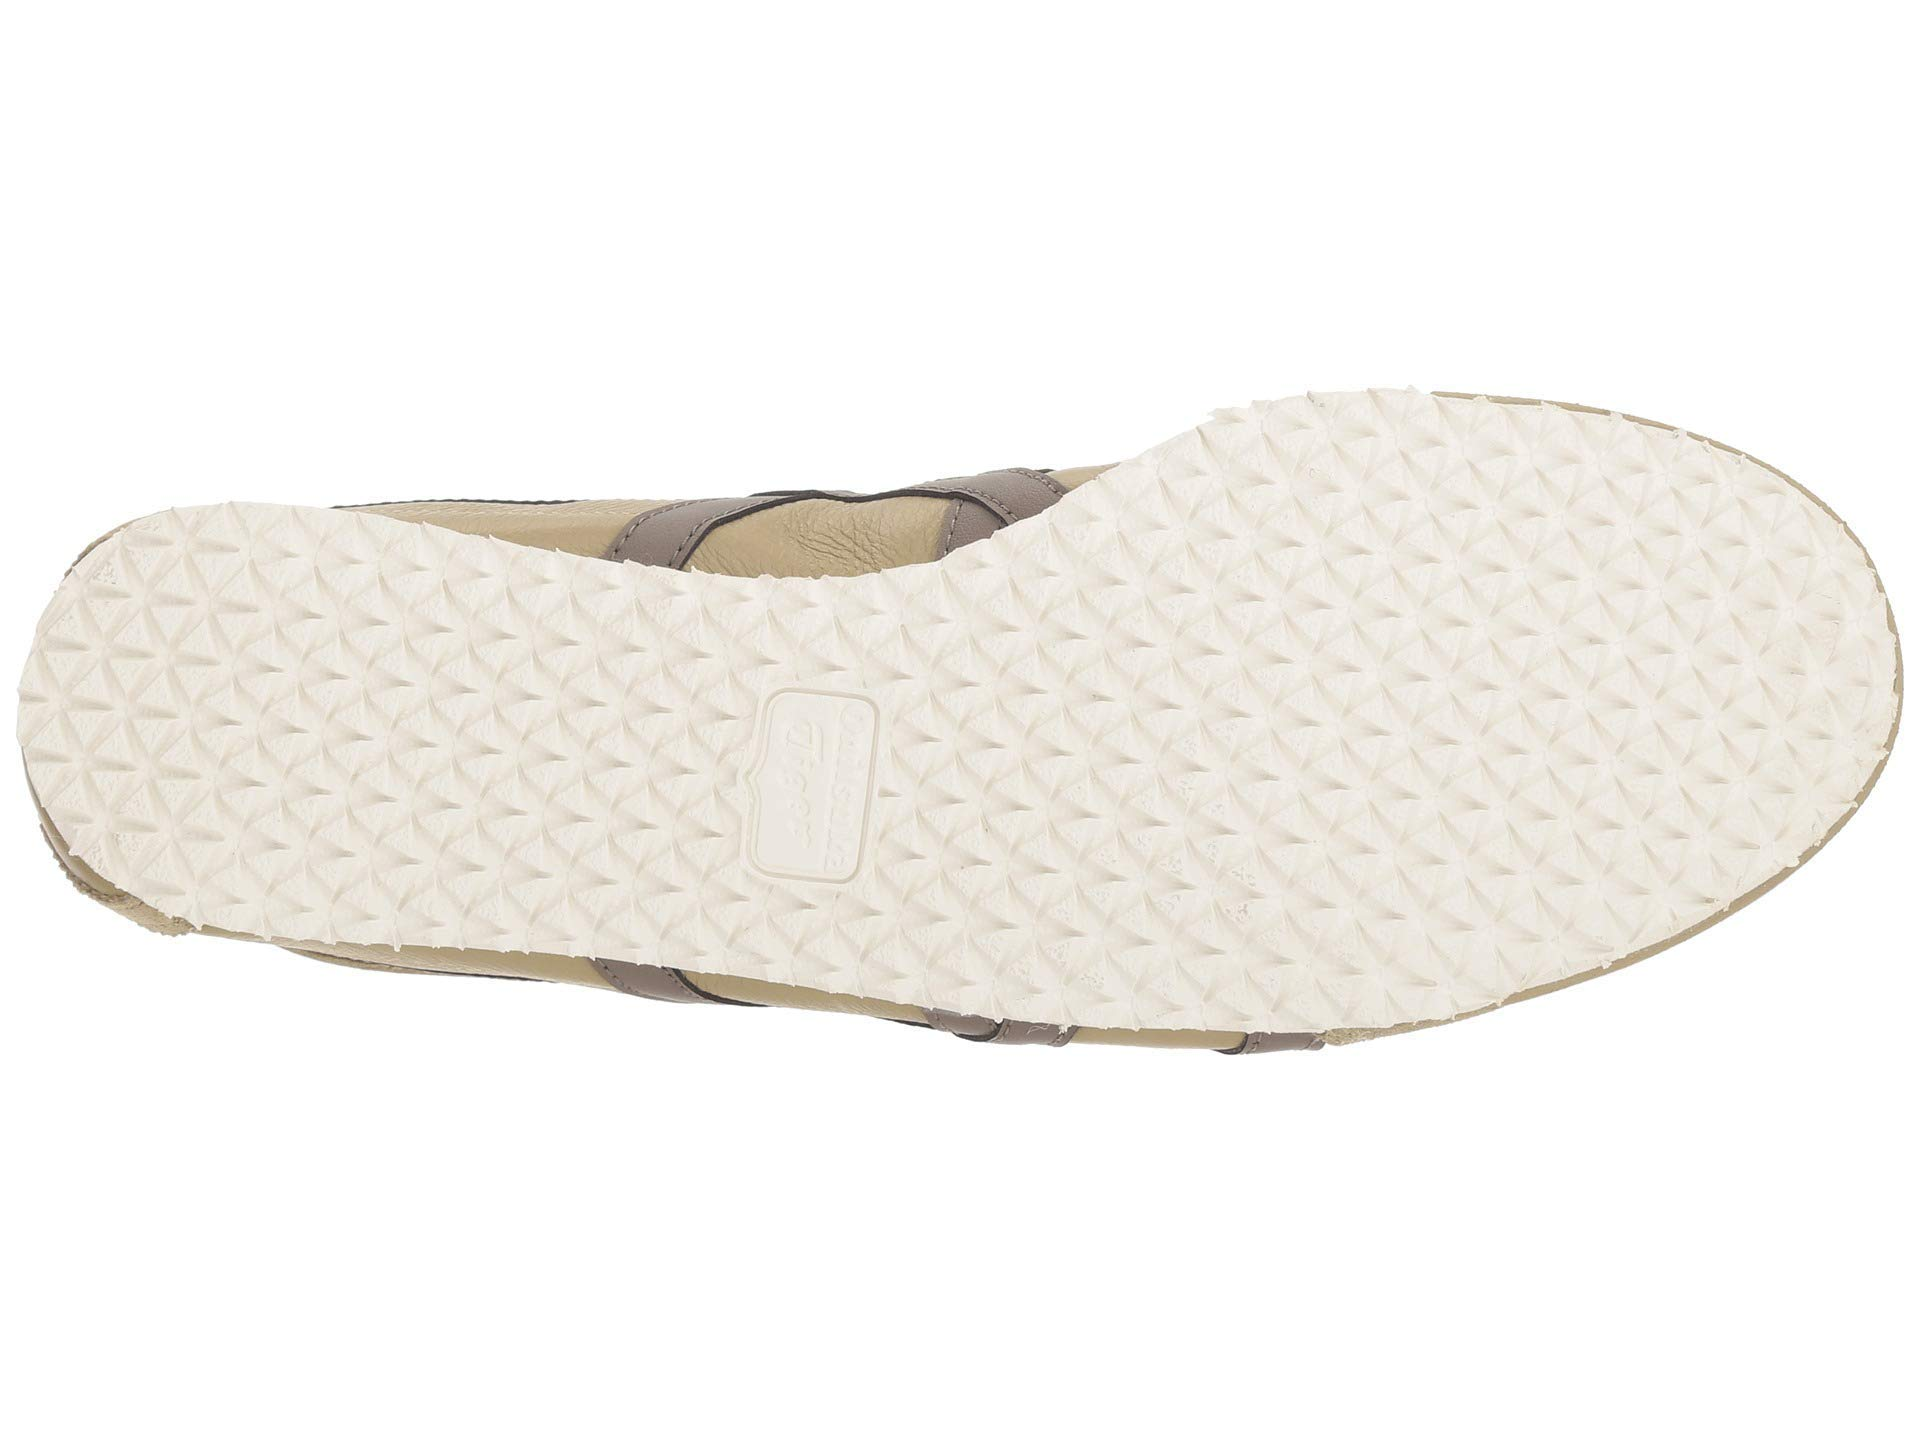exclude: (331, 446, 1150, 578)
quad: (745, 591, 903, 991)
text: (745, 591, 903, 991)
triangle: (94, 554, 738, 932), (1184, 436, 1522, 991), (921, 570, 1154, 1001), (1547, 452, 1775, 882), (745, 591, 903, 991)
